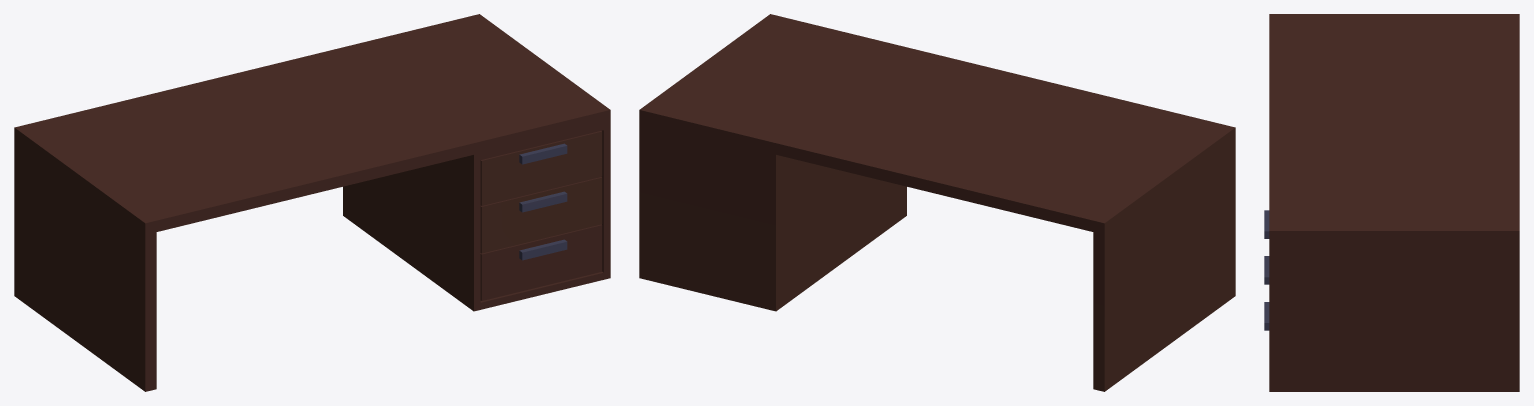
File: desk_alt.glb
The picture shows the model from 3 angles, left to right: view 1: azimuth 30°, elevation 25°; view 2: azimuth 150°, elevation 25°; view 3: azimuth 270°, elevation 25°; orthographic projection. The views are drawn at different scales.
Parts seen in each view (by area): view 1: Desk; view 2: Desk; view 3: Desk.
Boxes of the visible parts, <box> form: Desk: <box>14,14,610,391</box>; Desk: <box>639,14,1235,391</box>; Desk: <box>1264,14,1519,391</box>.
Size of the model in its own units: 1.25 by 0.433 by 0.6222.
1 material, 1 textured.
